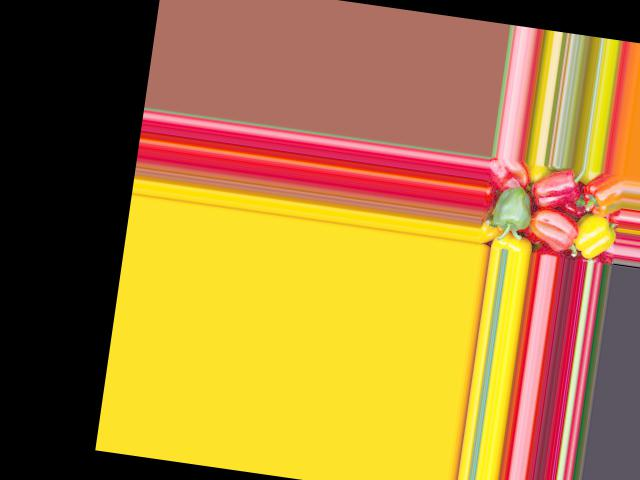bell_pepper: (570, 209, 618, 264)
